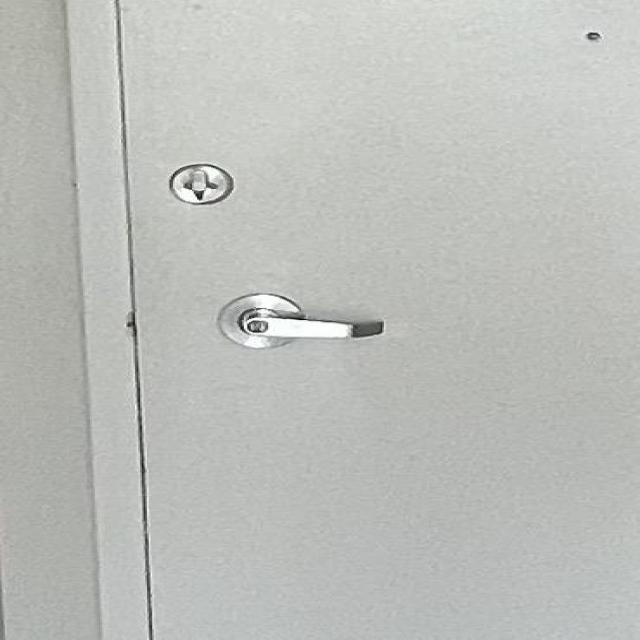door_handle: (206, 302, 406, 354)
